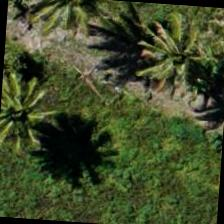Kelapa_Sawit: (133, 5, 223, 102), (0, 69, 60, 164)
